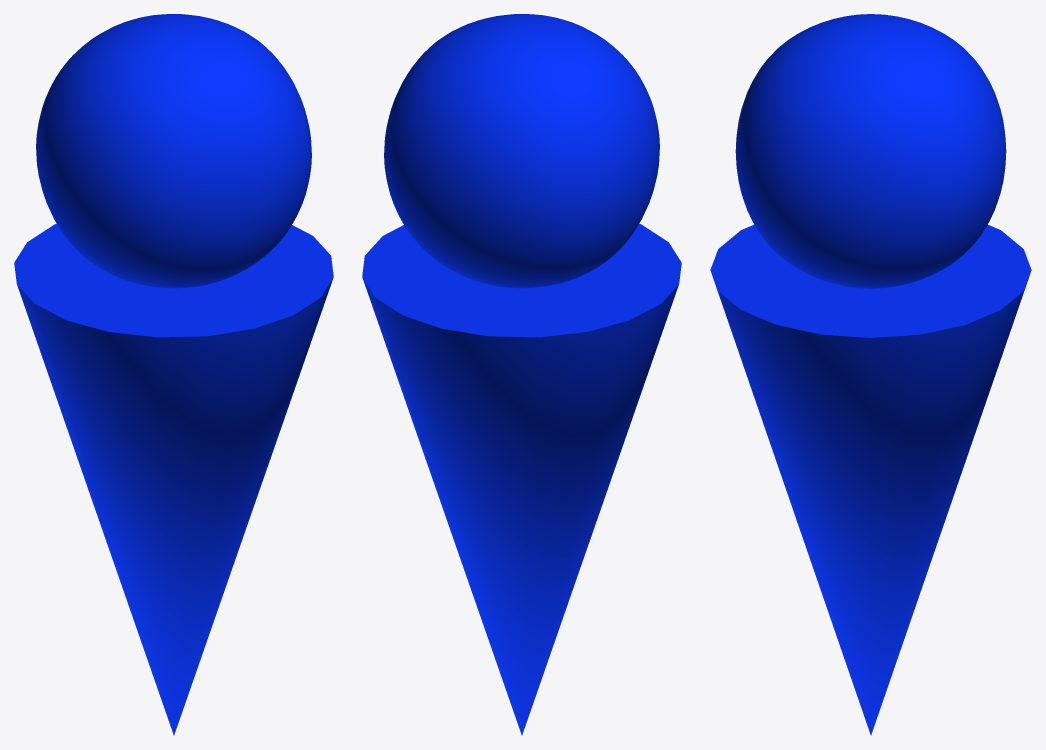
Rendered from Character.fbx.
3 renders of one model, left to right at view 1: azimuth 30°, elevation 25°; view 2: azimuth 150°, elevation 25°; view 3: azimuth 270°, elevation 25°, orthographic.
Parts seen in each view (by area): view 1: pCone2; view 2: pCone2; view 3: pCone2.
Boxes of the visible parts, <box> form: pCone2: <box>14,14,333,735</box>; pCone2: <box>362,14,681,735</box>; pCone2: <box>710,14,1031,735</box>.
Bounding box in the file's own units: 1 × 2.43 × 1.
Materials: 1 (1 with a texture image).
